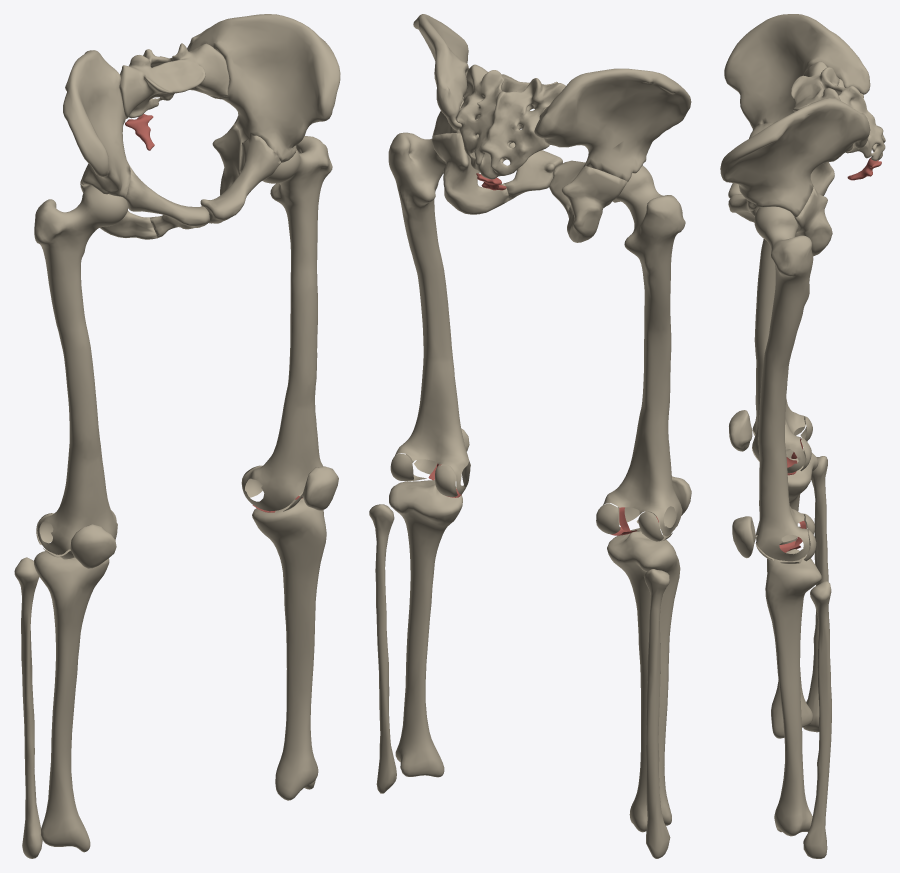
File: adult_female.skeletal.LOD0.glb
3 views of the same model, side by side, from view 1: azimuth 30°, elevation 25°; view 2: azimuth 150°, elevation 25°; view 3: azimuth 270°, elevation 25° (orthographic). The views are drawn at different scales.
Parts seen in each view (by area): view 1: ADULT.FEMALE.SKELETAL.FEMUR.R, ADULT.FEMALE.SKELETAL.FEMUR.L, ADULT.FEMALE.SKELETAL.ILIUM_COMPACT_BONE.L, ADULT.FEMALE.SKELETAL.TIBIA.L, ADULT.FEMALE.SKELETAL.TIBIA.R, ADULT.FEMALE.SKELETAL.ILIUM_COMPACT_BONE.R, ADULT.FEMALE.SKELETAL.SACRUM, ADULT.FEMALE.SKELETAL.FIBULA.R, ADULT.FEMALE.SKELETAL.PUBIS_COMPACT_BONE.L, ADULT.FEMALE.SKELETAL.PUBIS_COMPACT_BONE.R, ADULT.FEMALE.SKELETAL.PATELLA.R, ADULT.FEMALE.SKELETAL.PATELLA.L (+2 smaller); view 2: ADULT.FEMALE.SKELETAL.FEMUR.R, ADULT.FEMALE.SKELETAL.FEMUR.L, ADULT.FEMALE.SKELETAL.ILIUM_COMPACT_BONE.R, ADULT.FEMALE.SKELETAL.TIBIA.L, ADULT.FEMALE.SKELETAL.SACRUM, ADULT.FEMALE.SKELETAL.TIBIA.R, ADULT.FEMALE.SKELETAL.FIBULA.R, ADULT.FEMALE.SKELETAL.ILIUM_COMPACT_BONE.L, ADULT.FEMALE.SKELETAL.FIBULA.L, ADULT.FEMALE.SKELETAL.ISCHIUM_COMPACT_BONE.L, ADULT.FEMALE.SKELETAL.ISCHIUM_COMPACT_BONE.R, ADULT.FEMALE.SKELETAL.PUBIS_COMPACT_BONE.L (+2 smaller); view 3: ADULT.FEMALE.SKELETAL.FEMUR.L, ADULT.FEMALE.SKELETAL.ILIUM_COMPACT_BONE.L, ADULT.FEMALE.SKELETAL.ILIUM_COMPACT_BONE.R, ADULT.FEMALE.SKELETAL.TIBIA.L, ADULT.FEMALE.SKELETAL.FIBULA.L, ADULT.FEMALE.SKELETAL.FEMUR.R, ADULT.FEMALE.SKELETAL.SACRUM, ADULT.FEMALE.SKELETAL.FIBULA.R, ADULT.FEMALE.SKELETAL.TIBIA.R, ADULT.FEMALE.SKELETAL.ISCHIUM_COMPACT_BONE.L, ADULT.FEMALE.SKELETAL.PATELLA.L, ADULT.FEMALE.SKELETAL.PATELLA.R (+2 smaller).
Boxes of the visible parts, box(x1,y1,x2,y2) form: ADULT.FEMALE.SKELETAL.FEMUR.R: box(34, 185, 128, 554); ADULT.FEMALE.SKELETAL.FEMUR.L: box(242, 136, 332, 511); ADULT.FEMALE.SKELETAL.ILIUM_COMPACT_BONE.L: box(187, 14, 340, 162); ADULT.FEMALE.SKELETAL.TIBIA.L: box(252, 494, 326, 800); ADULT.FEMALE.SKELETAL.TIBIA.R: box(34, 551, 109, 852); ADULT.FEMALE.SKELETAL.ILIUM_COMPACT_BONE.R: box(63, 50, 130, 197); ADULT.FEMALE.SKELETAL.SACRUM: box(119, 43, 229, 118); ADULT.FEMALE.SKELETAL.FIBULA.R: box(14, 557, 42, 858); ADULT.FEMALE.SKELETAL.PUBIS_COMPACT_BONE.L: box(200, 135, 281, 223); ADULT.FEMALE.SKELETAL.PUBIS_COMPACT_BONE.R: box(124, 166, 209, 237); ADULT.FEMALE.SKELETAL.PATELLA.R: box(70, 524, 116, 568); ADULT.FEMALE.SKELETAL.PATELLA.L: box(302, 466, 338, 510); ADULT.FEMALE.SKELETAL.FEMUR.R: box(602, 165, 685, 536); ADULT.FEMALE.SKELETAL.FEMUR.L: box(388, 132, 470, 494); ADULT.FEMALE.SKELETAL.ILIUM_COMPACT_BONE.R: box(534, 68, 691, 181); ADULT.FEMALE.SKELETAL.TIBIA.L: box(389, 480, 462, 777); ADULT.FEMALE.SKELETAL.SACRUM: box(456, 64, 565, 179); ADULT.FEMALE.SKELETAL.TIBIA.R: box(607, 528, 680, 832); ADULT.FEMALE.SKELETAL.FIBULA.R: box(644, 569, 670, 858); ADULT.FEMALE.SKELETAL.ILIUM_COMPACT_BONE.L: box(413, 14, 478, 135); ADULT.FEMALE.SKELETAL.FIBULA.L: box(369, 504, 396, 793); ADULT.FEMALE.SKELETAL.ISCHIUM_COMPACT_BONE.L: box(432, 133, 508, 214); ADULT.FEMALE.SKELETAL.ISCHIUM_COMPACT_BONE.R: box(562, 166, 627, 242); ADULT.FEMALE.SKELETAL.PUBIS_COMPACT_BONE.L: box(476, 134, 562, 201); ADULT.FEMALE.SKELETAL.FEMUR.L: box(754, 206, 813, 561); ADULT.FEMALE.SKELETAL.ILIUM_COMPACT_BONE.L: box(720, 98, 870, 217); ADULT.FEMALE.SKELETAL.ILIUM_COMPACT_BONE.R: box(724, 14, 870, 129); ADULT.FEMALE.SKELETAL.TIBIA.L: box(765, 549, 821, 836); ADULT.FEMALE.SKELETAL.FIBULA.L: box(803, 581, 831, 858); ADULT.FEMALE.SKELETAL.FEMUR.R: box(752, 239, 805, 473); ADULT.FEMALE.SKELETAL.SACRUM: box(790, 61, 885, 160); ADULT.FEMALE.SKELETAL.FIBULA.R: box(803, 456, 828, 732); ADULT.FEMALE.SKELETAL.TIBIA.R: box(771, 448, 818, 738); ADULT.FEMALE.SKELETAL.ISCHIUM_COMPACT_BONE.L: box(794, 186, 832, 256); ADULT.FEMALE.SKELETAL.PATELLA.L: box(732, 516, 755, 558); ADULT.FEMALE.SKELETAL.PATELLA.R: box(729, 410, 752, 451).
Bounding box in the file's own units: 0.3598 × 0.8977 × 0.1827.
